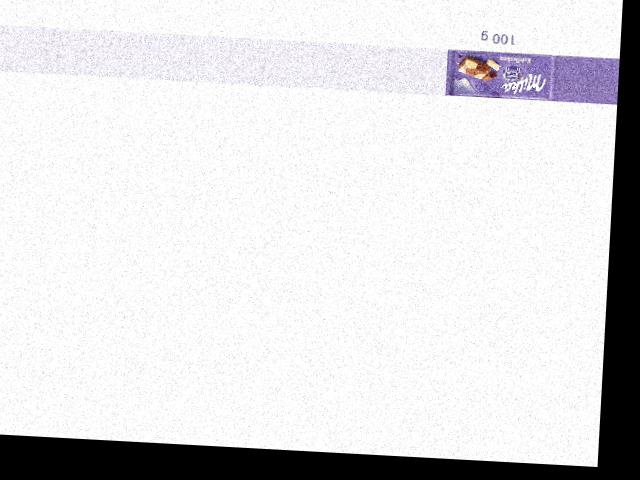chocolate: (444, 47, 558, 101)
